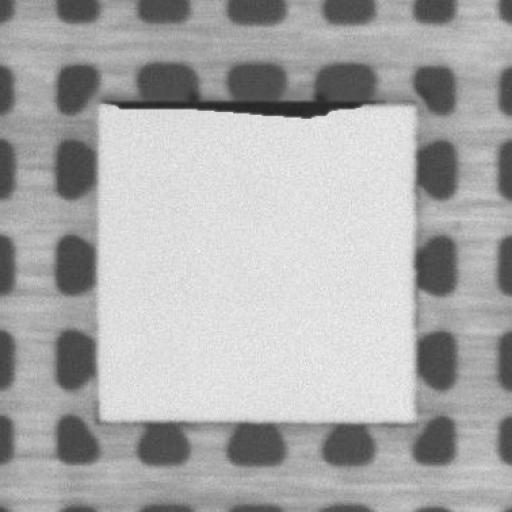DIE_BROKEN: (100, 93, 384, 122)
